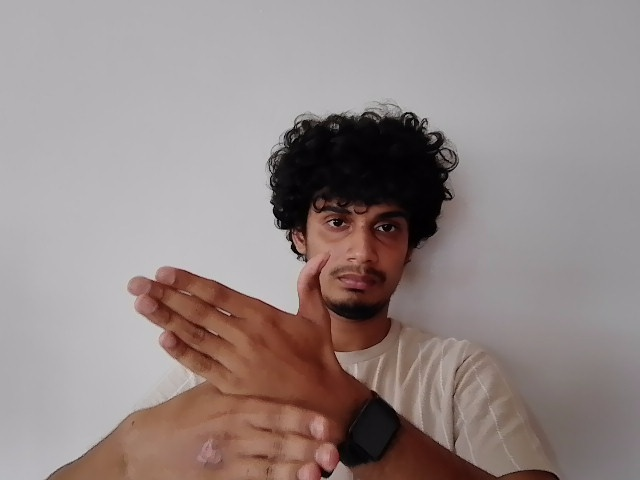busy: (124, 248, 345, 480)
